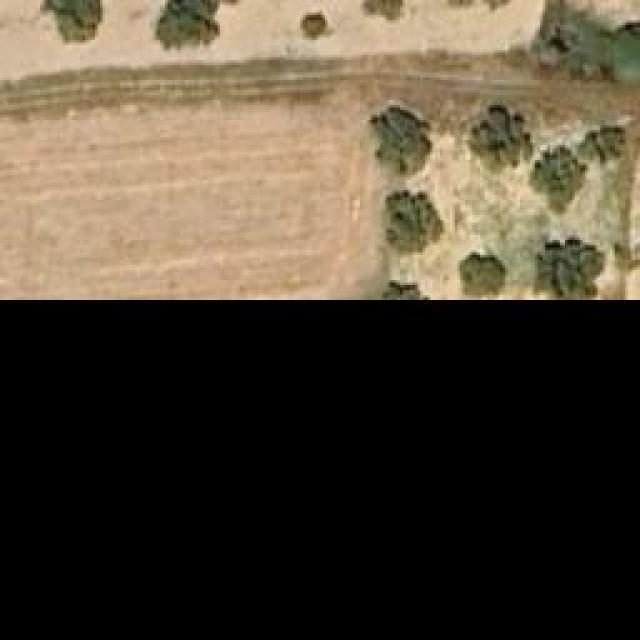Tree: (467, 100, 535, 175), (370, 105, 433, 175), (535, 235, 605, 298), (158, 0, 243, 48), (530, 147, 588, 215), (383, 190, 443, 253), (45, 0, 105, 42), (458, 253, 508, 298), (585, 122, 625, 160), (383, 278, 433, 301), (357, 0, 407, 22), (297, 10, 325, 38)
